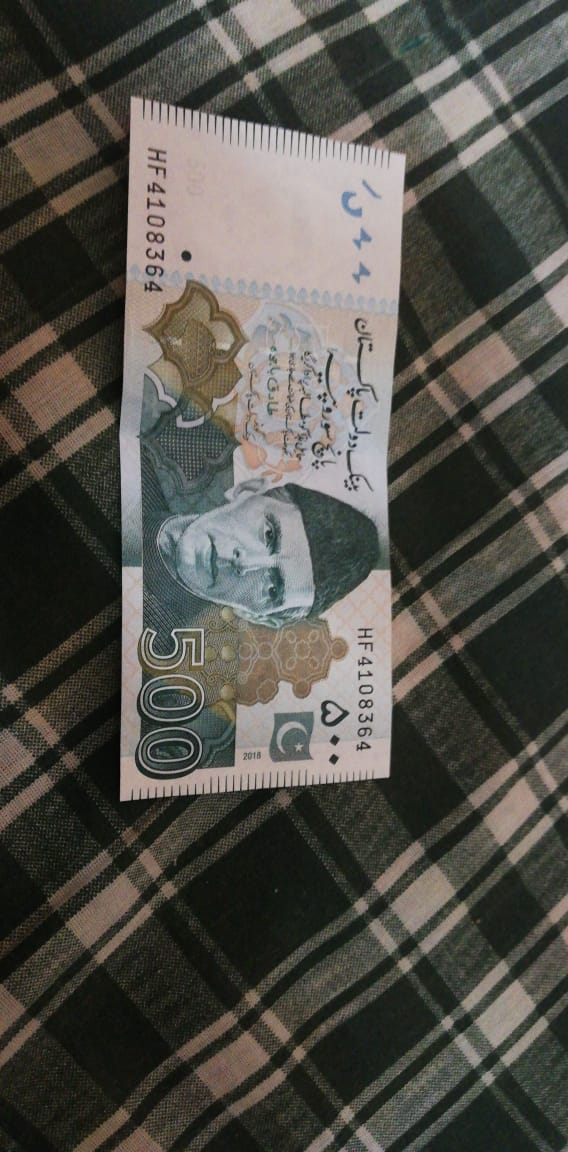500 rupee: (66, 66, 421, 811)
